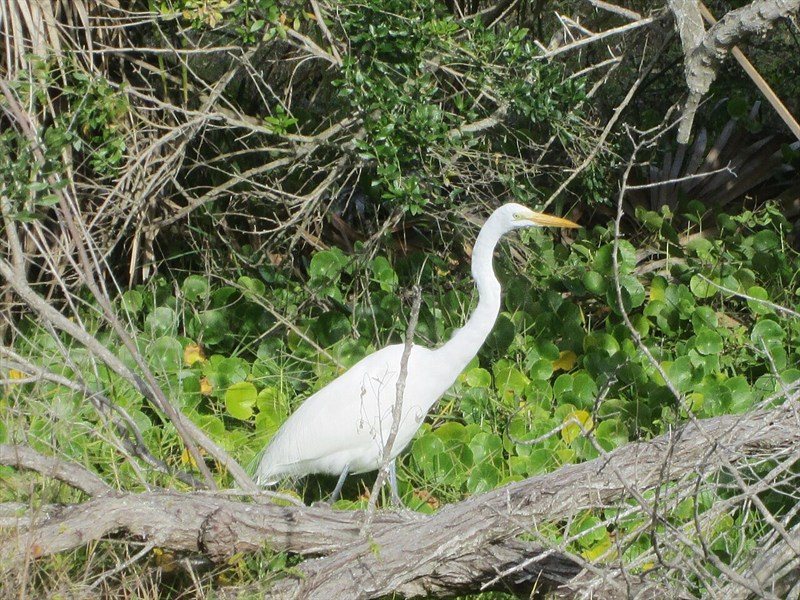Soto Ayam: (57, 59, 708, 491)
